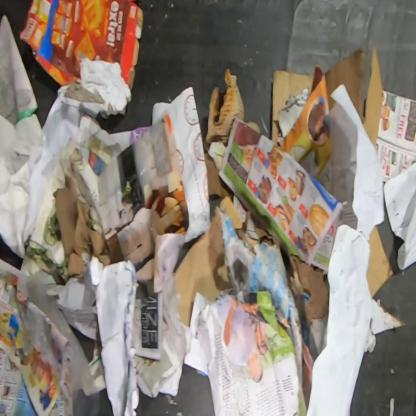cardboard: (18, 0, 144, 91), (174, 211, 233, 328), (325, 46, 383, 148), (204, 68, 262, 152), (270, 70, 314, 146), (366, 225, 394, 299)
soft_plastic: (21, 270, 95, 396)
